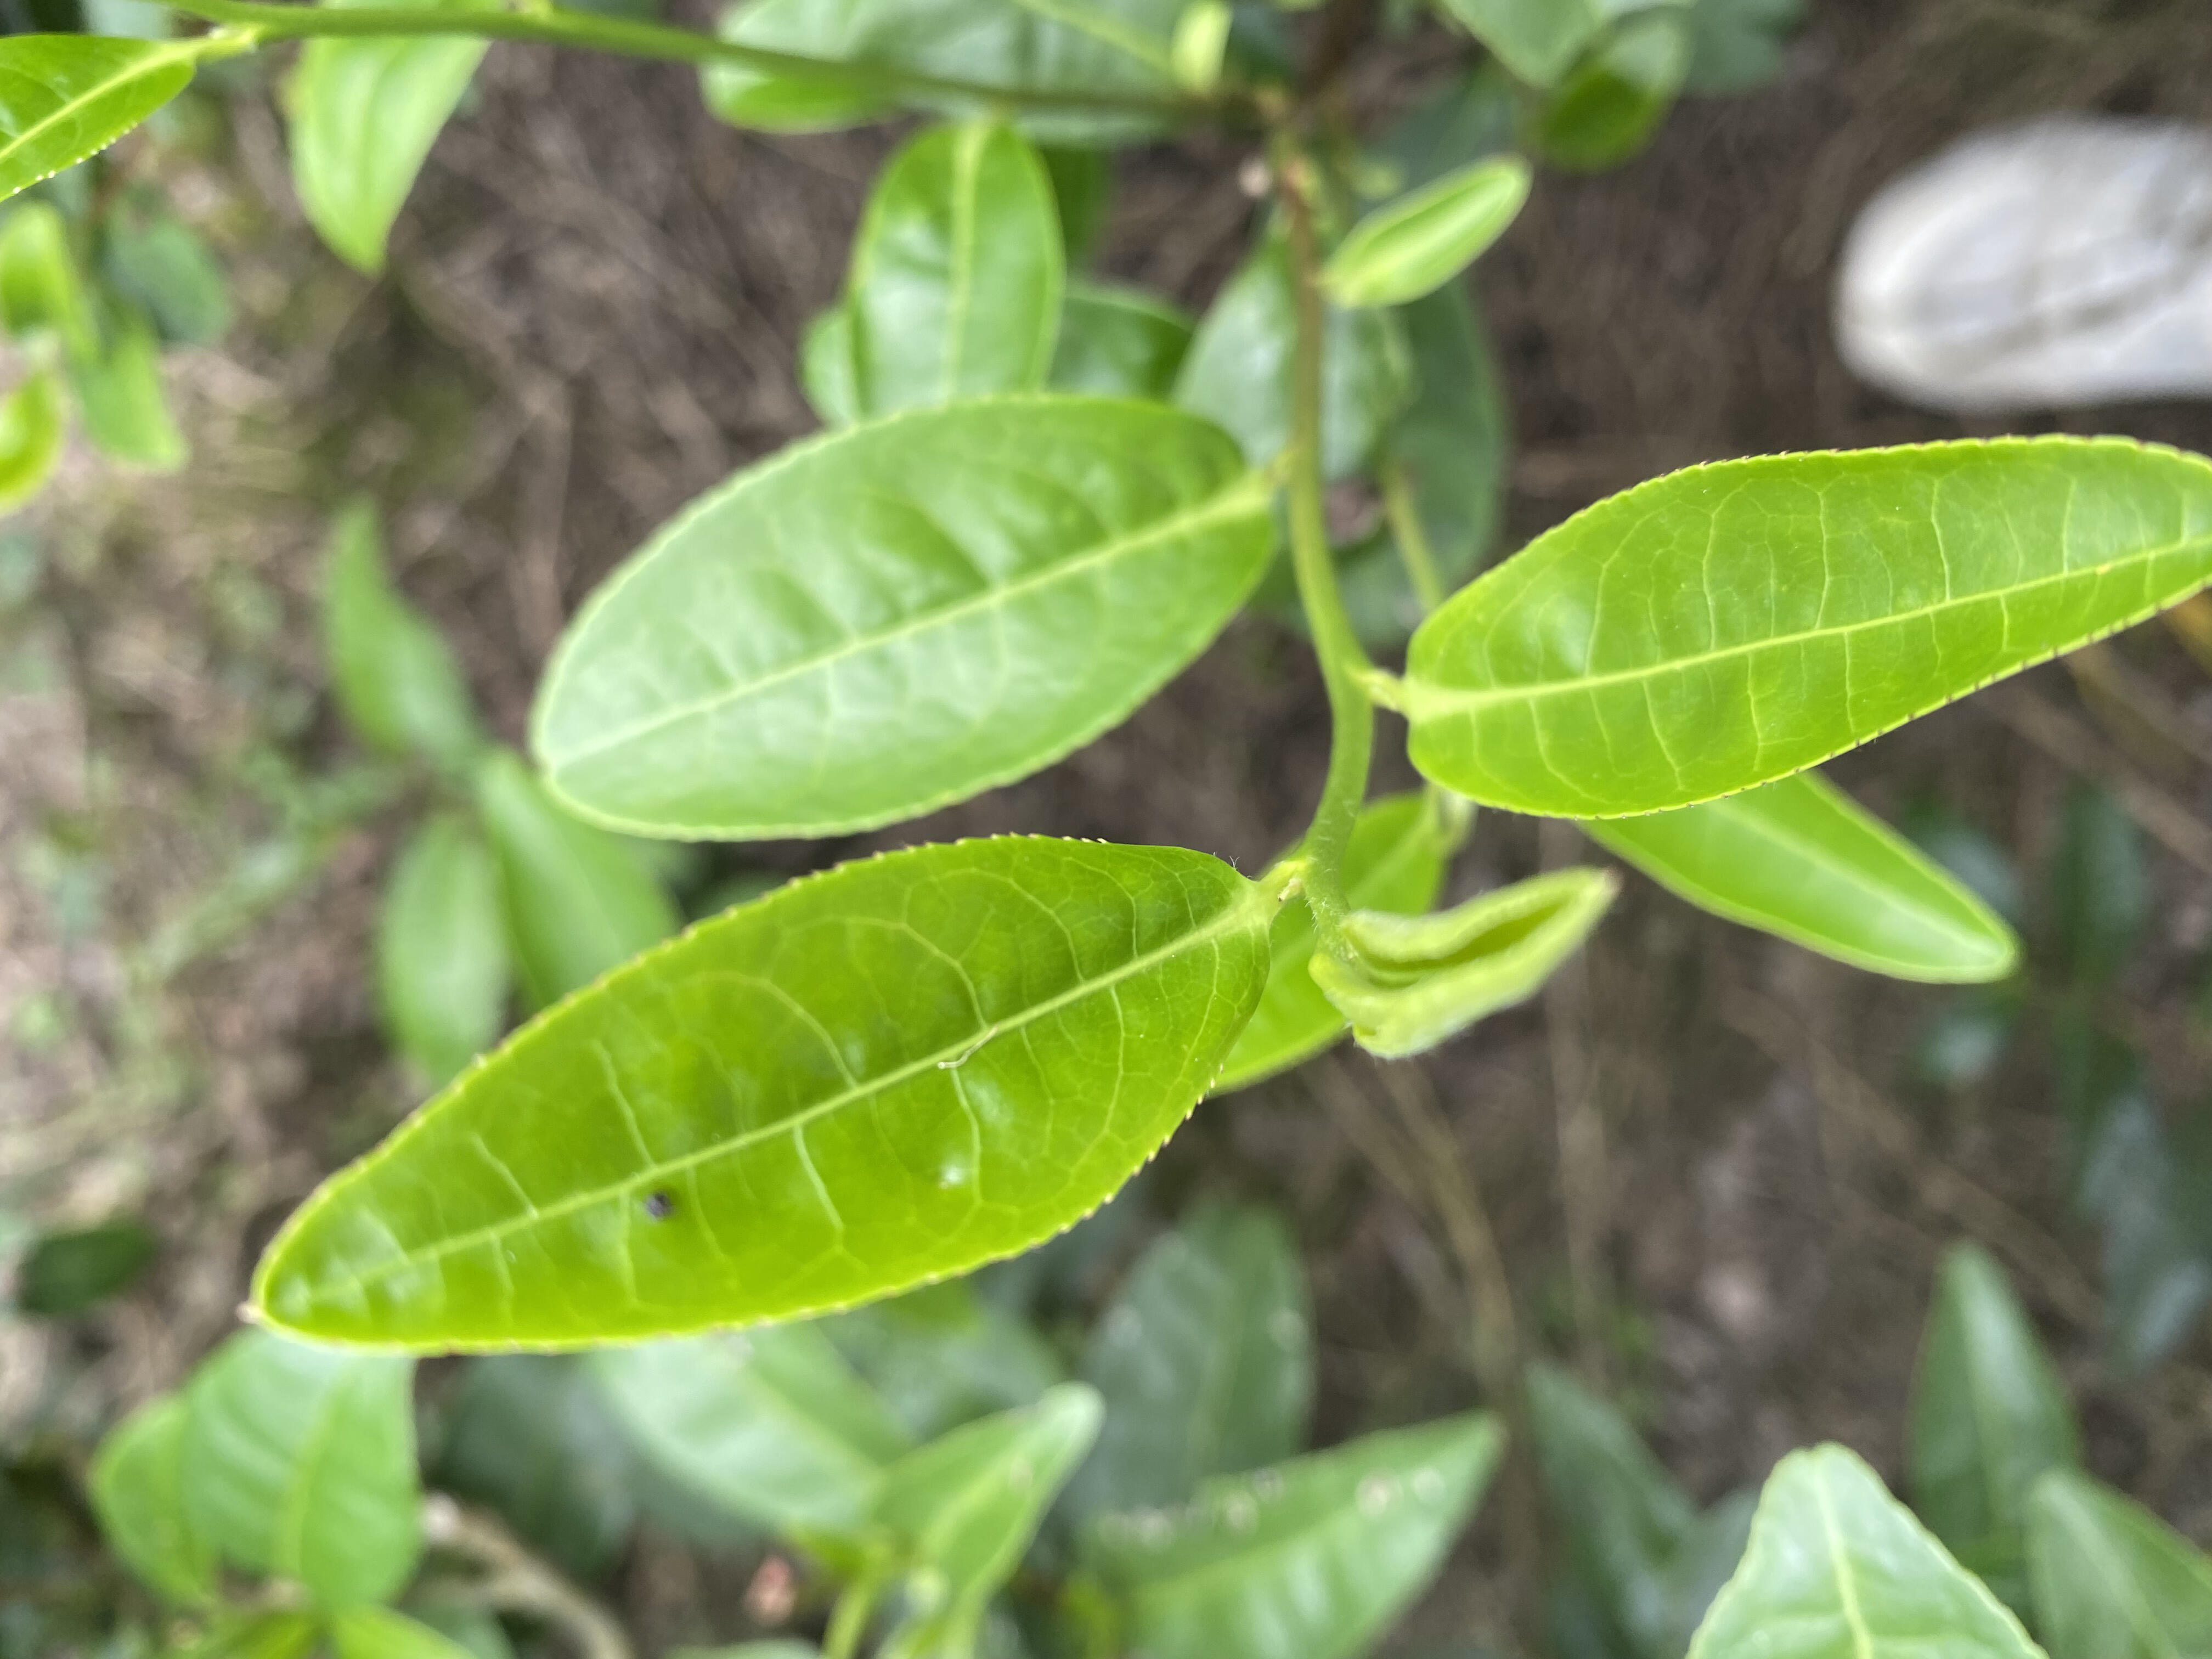healthy: (531, 396, 1282, 840), (1404, 434, 2209, 816)
tanju_low: (253, 831, 1275, 1354)
